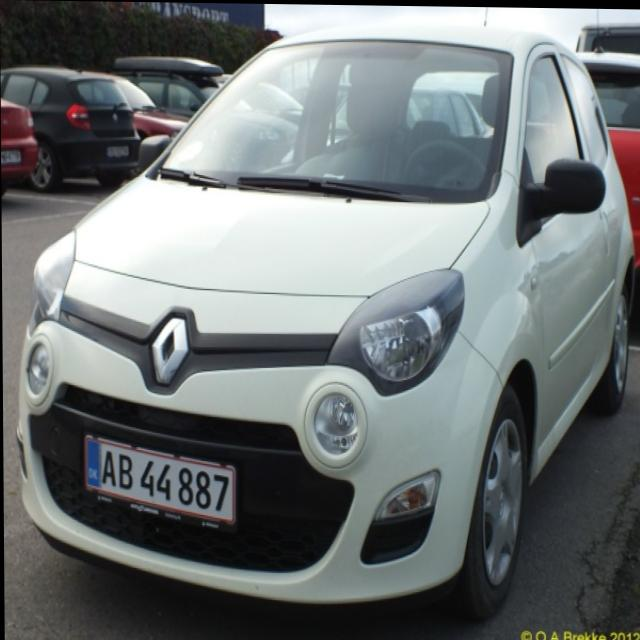licence: (90, 436, 238, 525)
